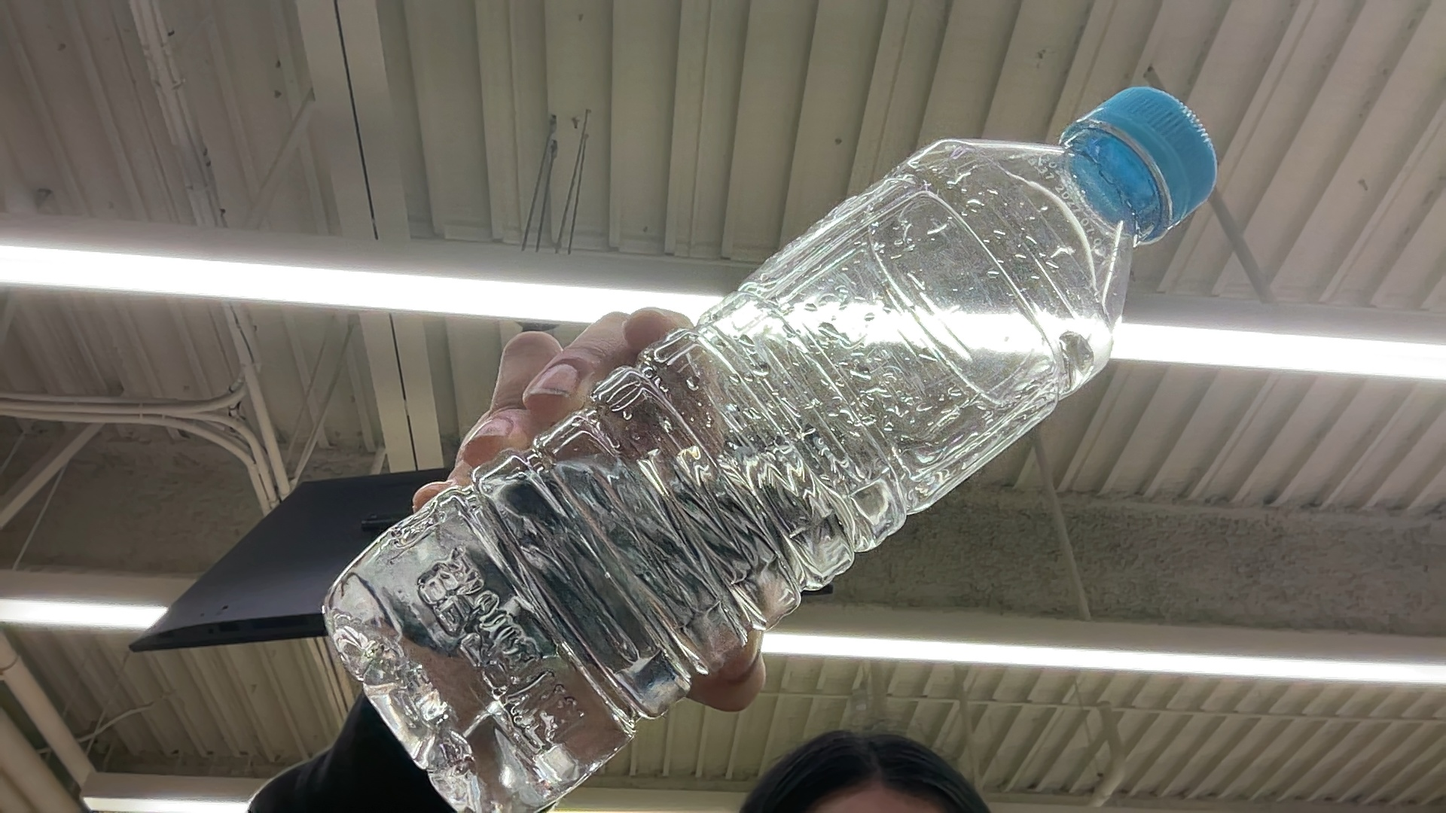Plastic: (13, 618, 365, 812)
